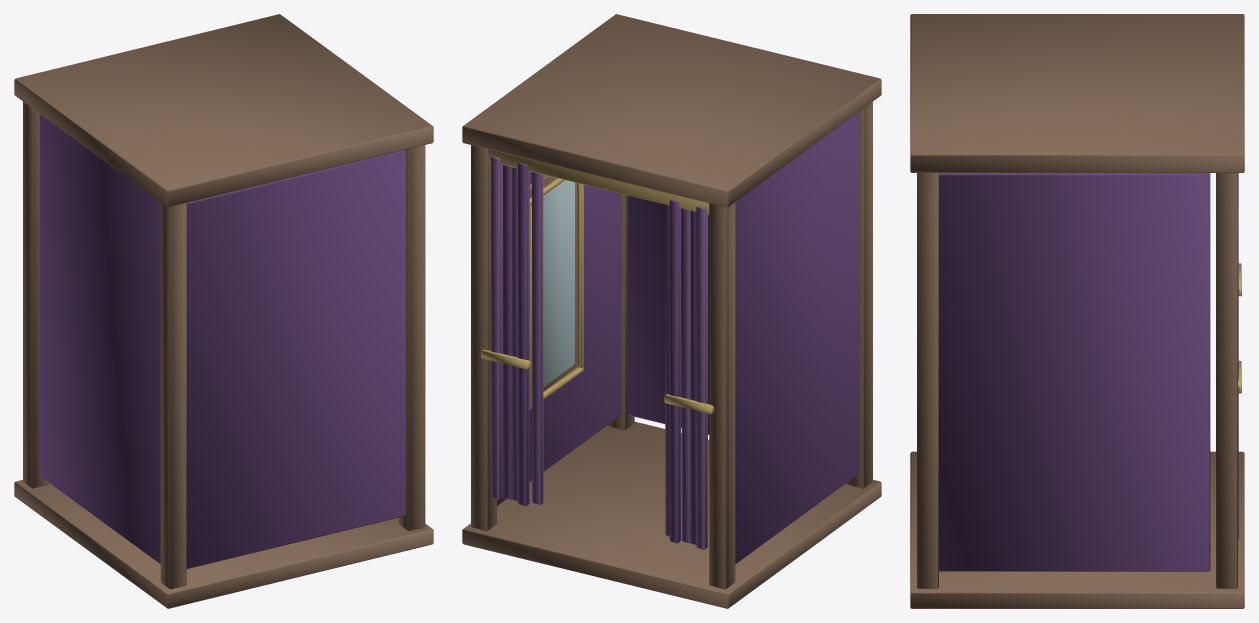
Rendered from prop_transform_booth_low.glb.
3 views of the same model, side by side, from view 1: azimuth 30°, elevation 25°; view 2: azimuth 150°, elevation 25°; view 3: azimuth 270°, elevation 25° (orthographic). The views are drawn at different scales.
Size of the model in its own units: 1.6 by 2.4 by 1.6.
